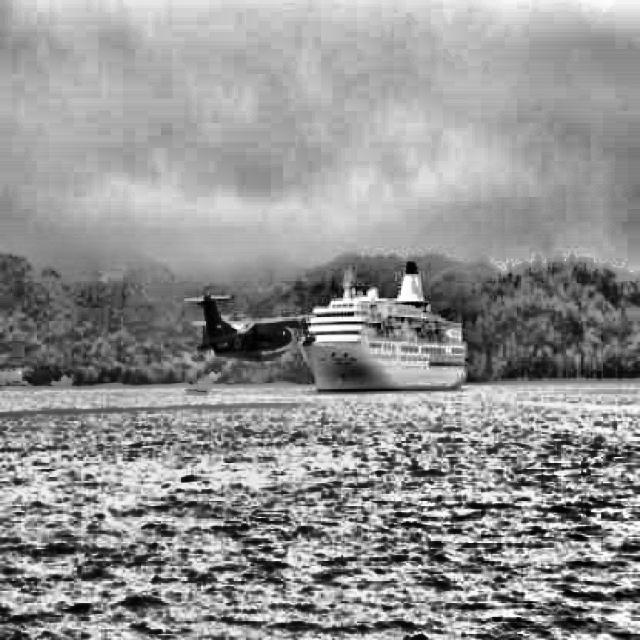US2: (182, 292, 318, 362)
